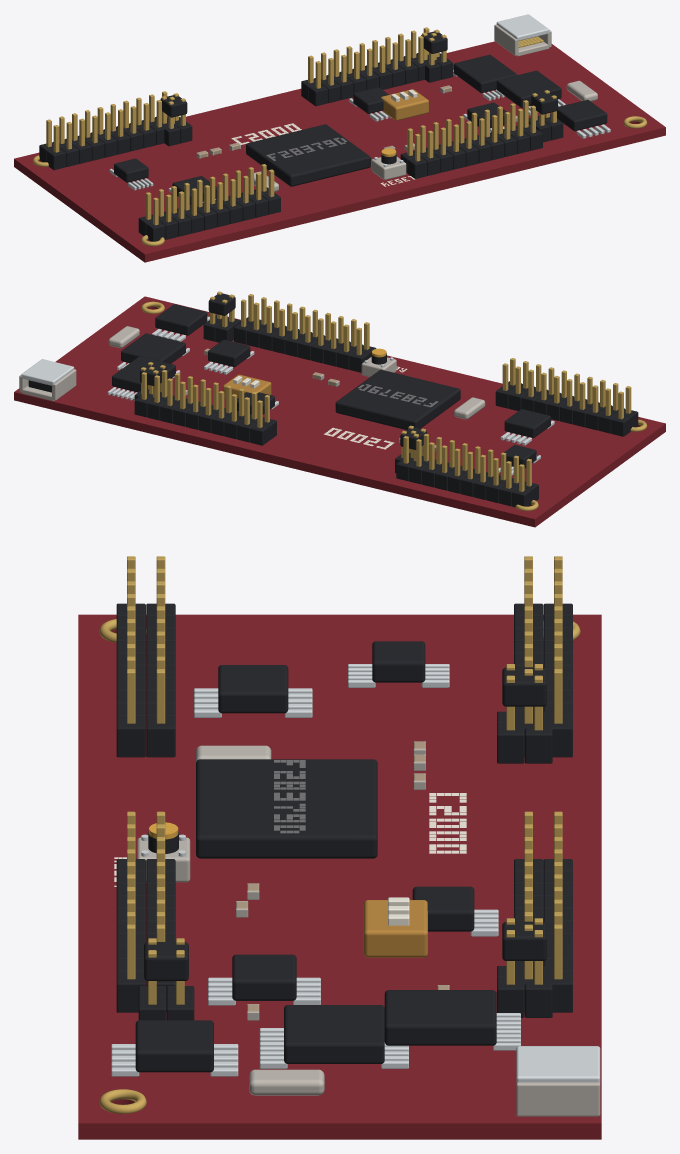
Rendered from boards-12.glb.
3 renders of one model, top to bottom at view 1: azimuth 30°, elevation 25°; view 2: azimuth 150°, elevation 25°; view 3: azimuth 270°, elevation 25°, orthographic. The views are drawn at different scales.
Parts seen in each view (by area): view 1: board, headers, cpu, jumpers, debug, usb, boot, reset, clocks; view 2: board, headers, cpu, debug, jumpers, usb, clocks, boot, reset; view 3: board, headers, cpu, debug, jumpers, usb, boot, clocks, reset.
Part boxes in pixels (x1=…): board: x1=14, y1=41, x2=665, y2=262; headers: x1=39, y1=27, x2=542, y2=241; cpu: x1=246, y1=124, x2=370, y2=186; jumpers: x1=160, y1=29, x2=563, y2=146; debug: x1=453, y1=54, x2=565, y2=115; usb: x1=494, y1=14, x2=551, y2=56; boot: x1=381, y1=89, x2=428, y2=120; reset: x1=371, y1=148, x2=406, y2=180; clocks: x1=248, y1=80, x2=597, y2=191; board: x1=14, y1=296, x2=665, y2=527; headers: x1=134, y1=294, x2=638, y2=507; cpu: x1=335, y1=369, x2=460, y2=429; debug: x1=107, y1=333, x2=189, y2=401; jumpers: x1=134, y1=291, x2=426, y2=473; usb: x1=19, y1=359, x2=76, y2=401; clocks: x1=108, y1=326, x2=485, y2=419; boot: x1=223, y1=374, x2=271, y2=398; reset: x1=361, y1=348, x2=396, y2=377; board: x1=78, y1=614, x2=601, y2=1139; headers: x1=116, y1=556, x2=572, y2=1012; cpu: x1=196, y1=759, x2=377, y2=858; debug: x1=259, y1=990, x2=520, y2=1068; jumpers: x1=138, y1=664, x2=552, y2=1020; usb: x1=516, y1=1046, x2=600, y2=1116; boot: x1=363, y1=897, x2=427, y2=957; clocks: x1=196, y1=745, x2=324, y2=1095; reset: x1=137, y1=822, x2=190, y2=882.
Bounding box in the file's own units: 4.3 × 0.3825 × 1.87.
